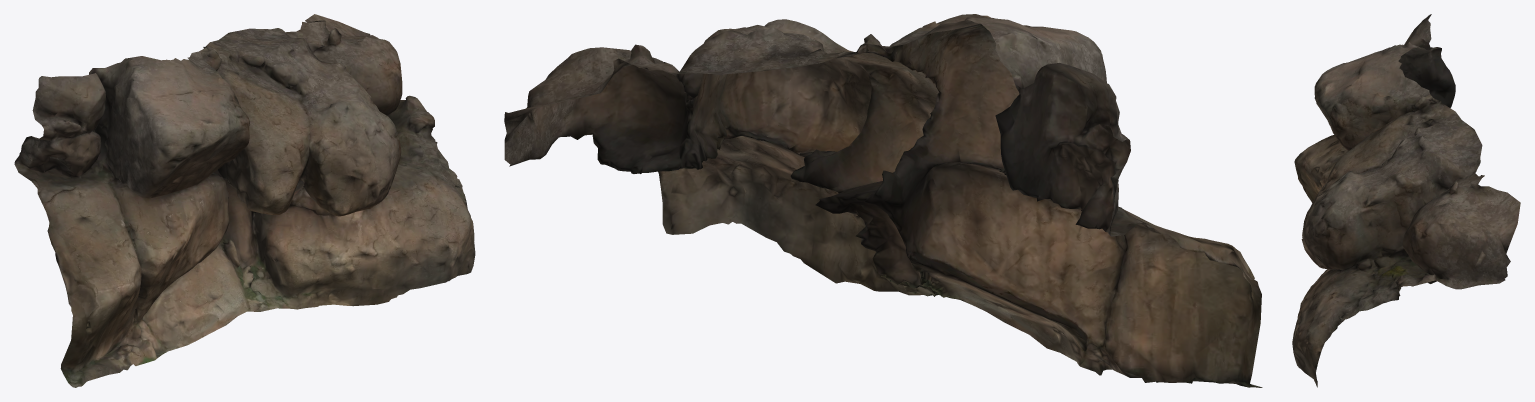
The model's file is namaqualand_cliff_01.glb.
3 renders of one model, left to right at view 1: azimuth 30°, elevation 25°; view 2: azimuth 150°, elevation 25°; view 3: azimuth 270°, elevation 25°, orthographic. The views are drawn at different scales.
Visible parts, largest first — view 1: drone_rock_01; view 2: drone_rock_01; view 3: drone_rock_01.
Boxes of the visible parts, x1,y1,x2,y2 form: drone_rock_01: (14,14,475,387); drone_rock_01: (504,14,1262,387); drone_rock_01: (1292,14,1520,387).
Size of the model in its own units: 8.28 by 4.96 by 4.39.
Materials: 1 (1 with a texture image).
